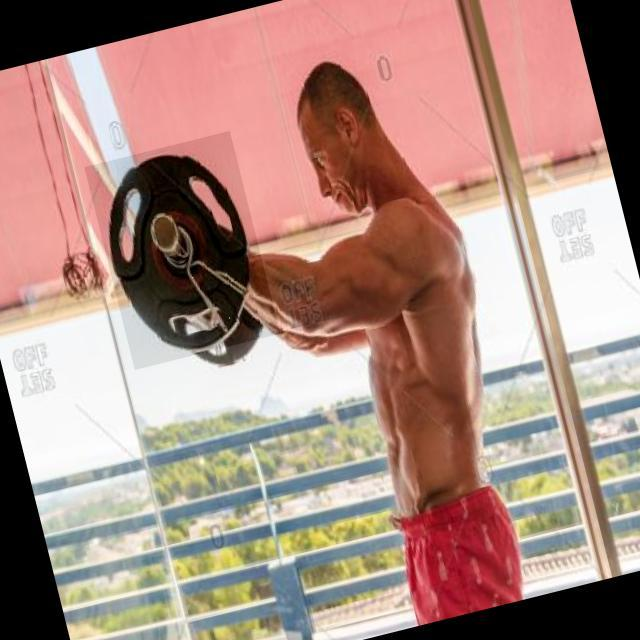barbell: (85, 132, 281, 371)
